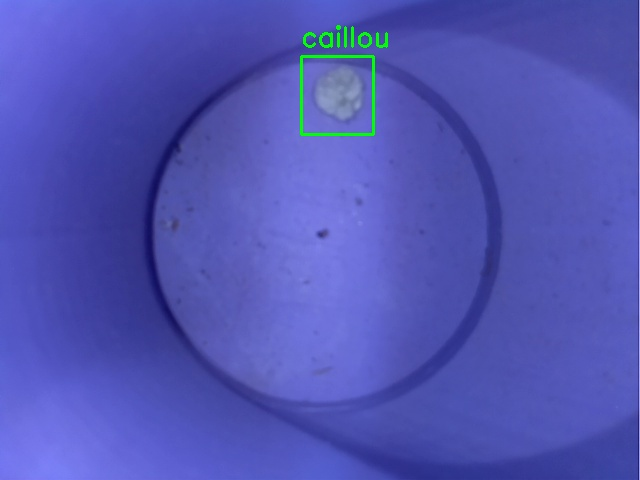caillou: (301, 56, 373, 134)
